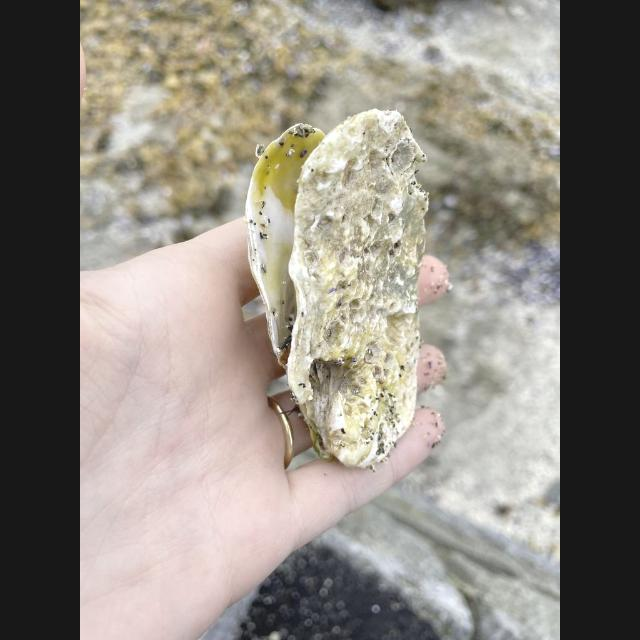Oyster-Open: (245, 106, 432, 468)
